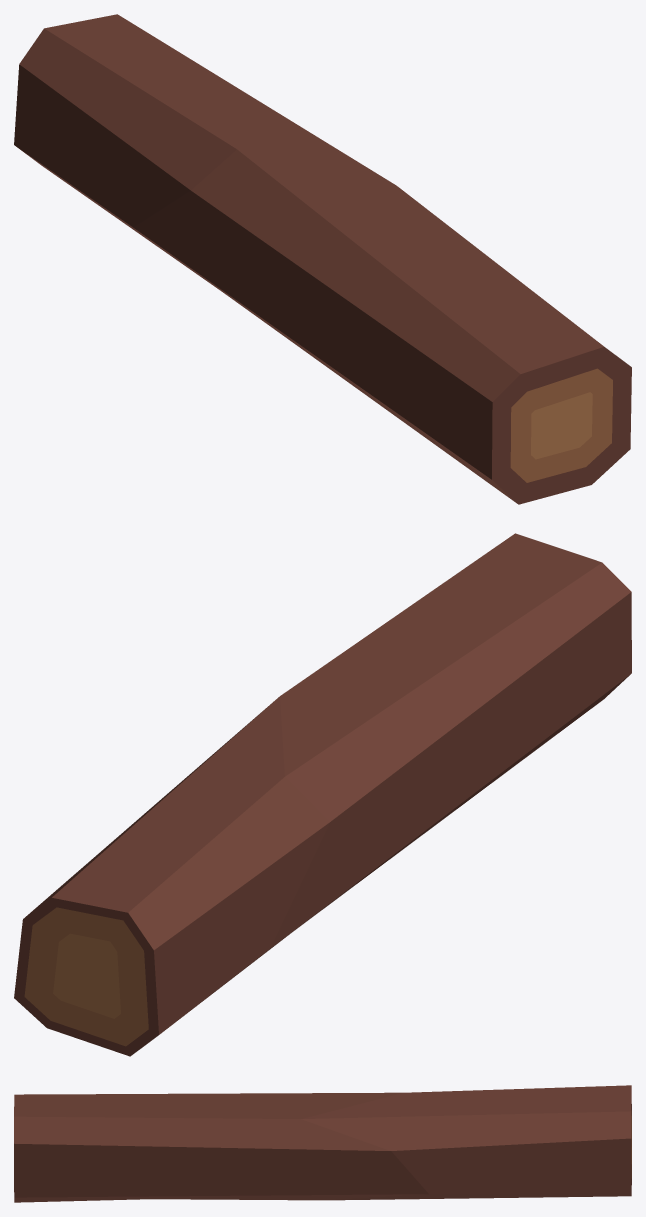
File: deck.fbx
3 views of the same model, one above another, from view 1: azimuth 30°, elevation 25°; view 2: azimuth 150°, elevation 25°; view 3: azimuth 270°, elevation 25° (orthographic). The views are drawn at different scales.
Parts seen in each view (by area): view 1: deck.003; view 2: deck.003; view 3: deck.003.
Boxes of the visible parts, <box> form: deck.003: <box>14,14,631,504</box>; deck.003: <box>14,533,631,1056</box>; deck.003: <box>14,1085,631,1202</box>.
Size of the model in its own units: 0.0987 by 0.0833 by 0.5077.
